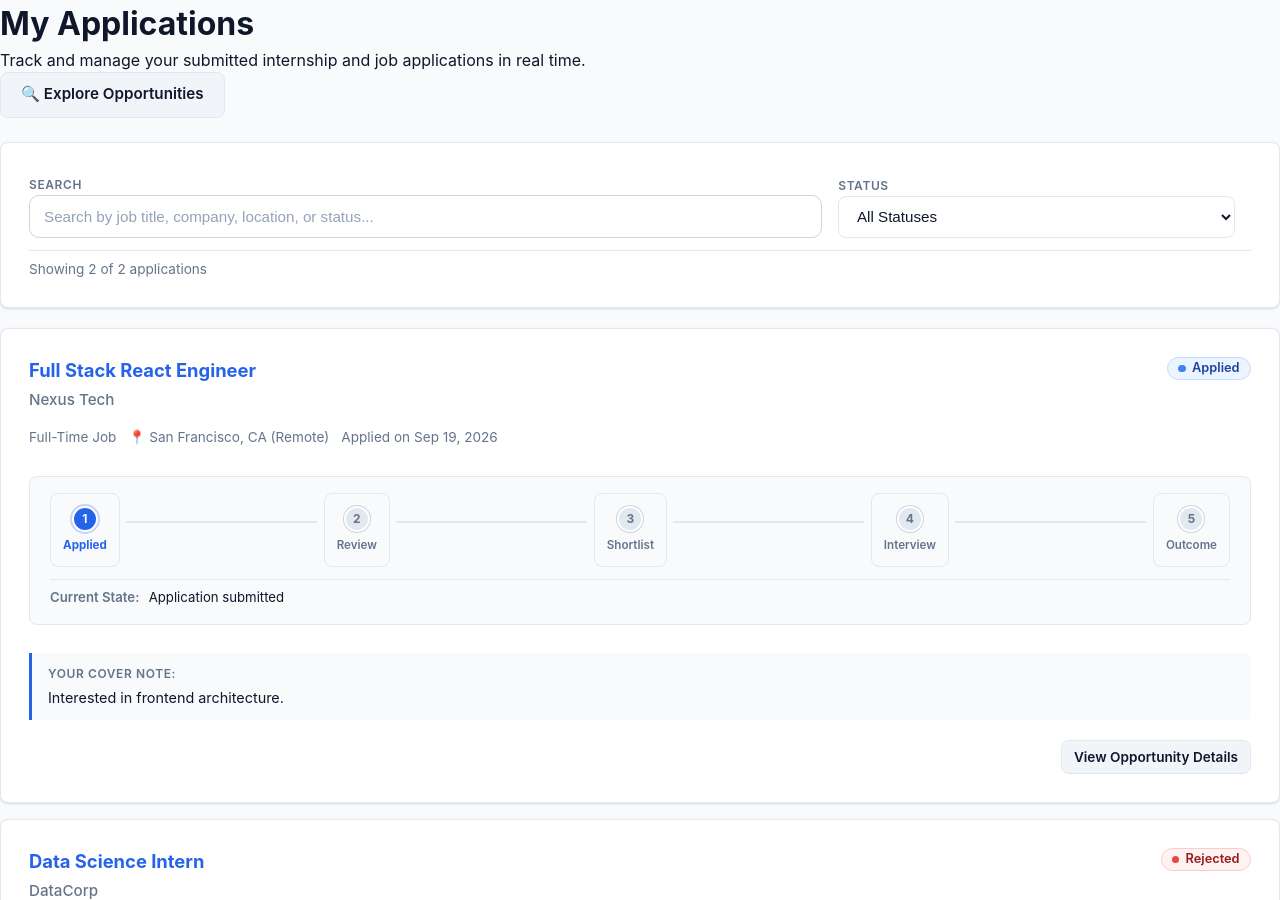
Test: StudentApplicationsPage › filters applications by status client-side
This screenshot has width=1280, height=900.
Check: the link "Full Stack React Engineer" is shown, box [29,359,256,381]
Check: the link "Data Science Intern" is shown, box [29,850,204,872]
// Select 'rejected' status filter
Select "Rejected" in the dropdown named "Filter by application status" at (1037, 217), box [838,196,1235,238]
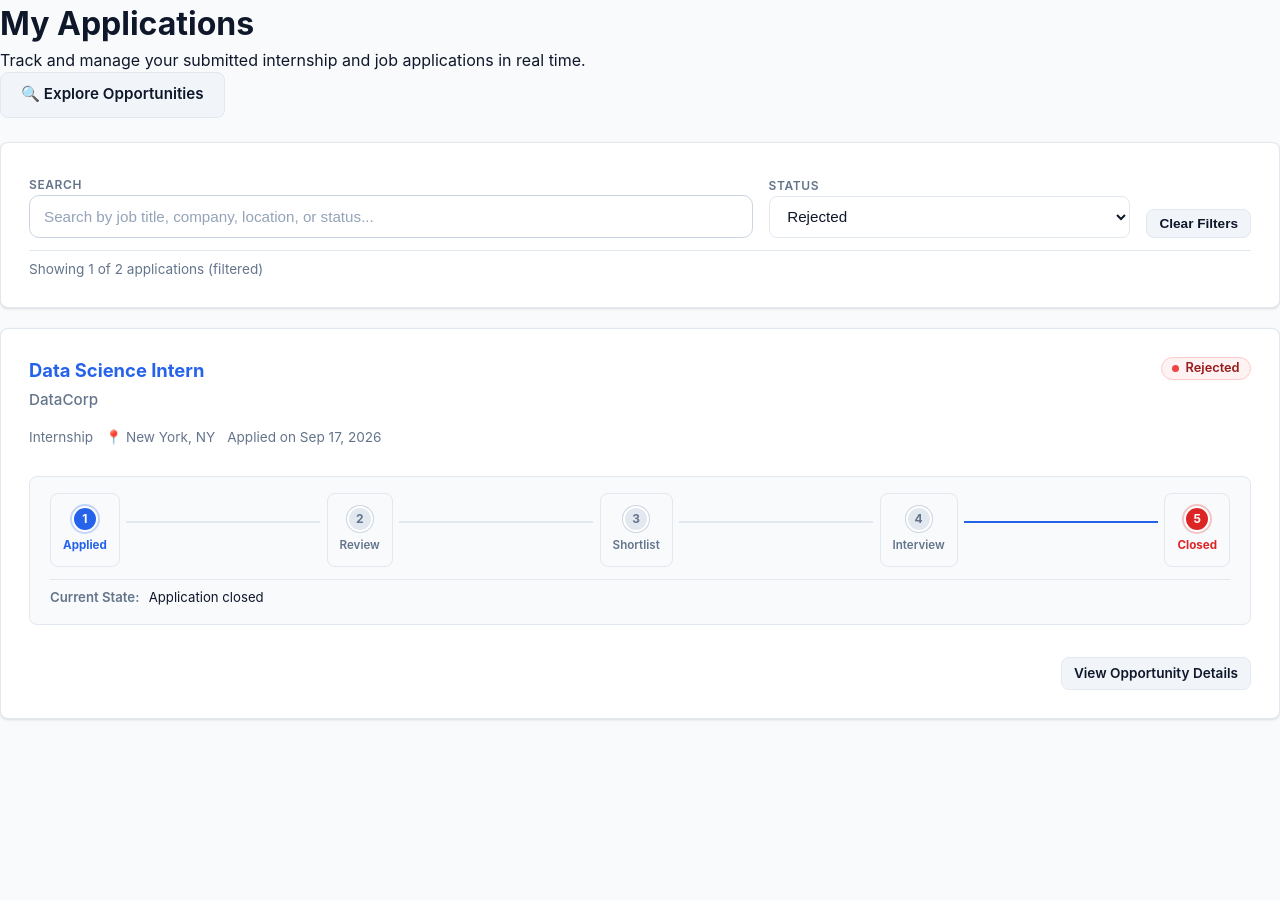
Check: the link "Data Science Intern" is shown, box [29,359,204,381]
Check: the link "Full Stack React Engineer" is gone
